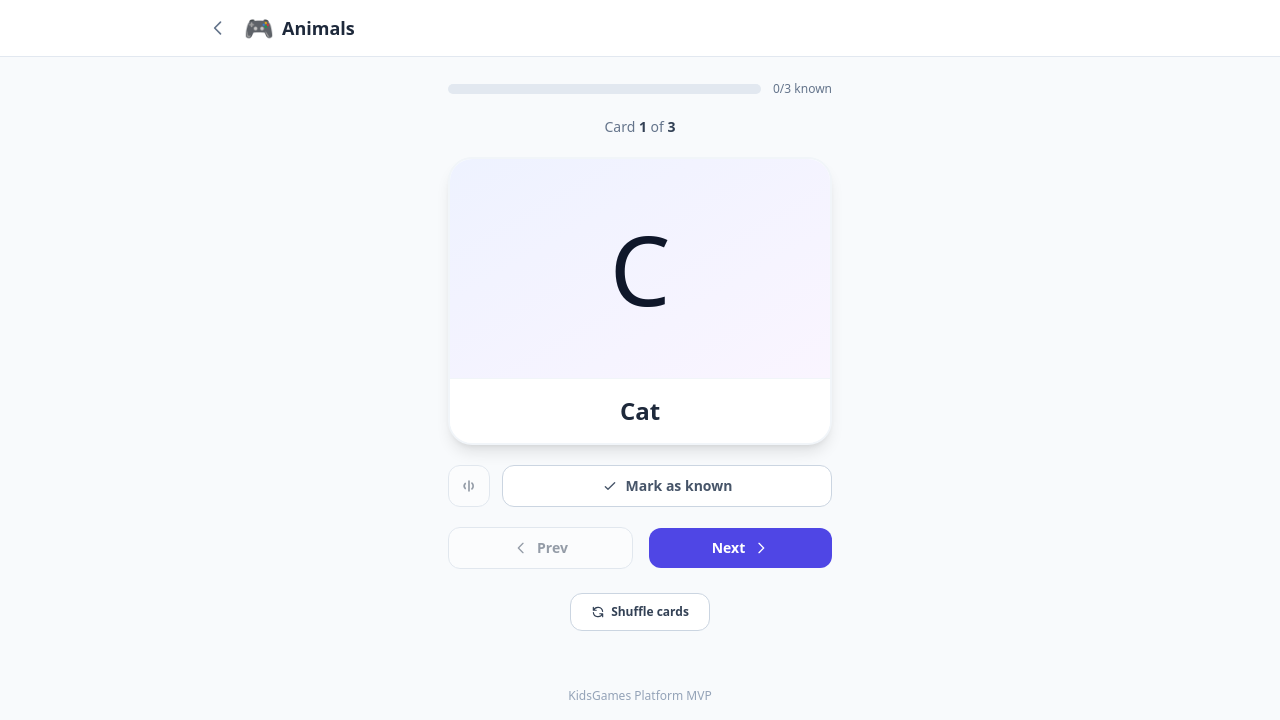
Scenario: FlashcardGamePage › navigates to previous card on Prev click
Expected: the text "Cat" is shown, [620,394,660,427]
Click the button with aria-label "next card": click(740, 548) [649,528,832,568]
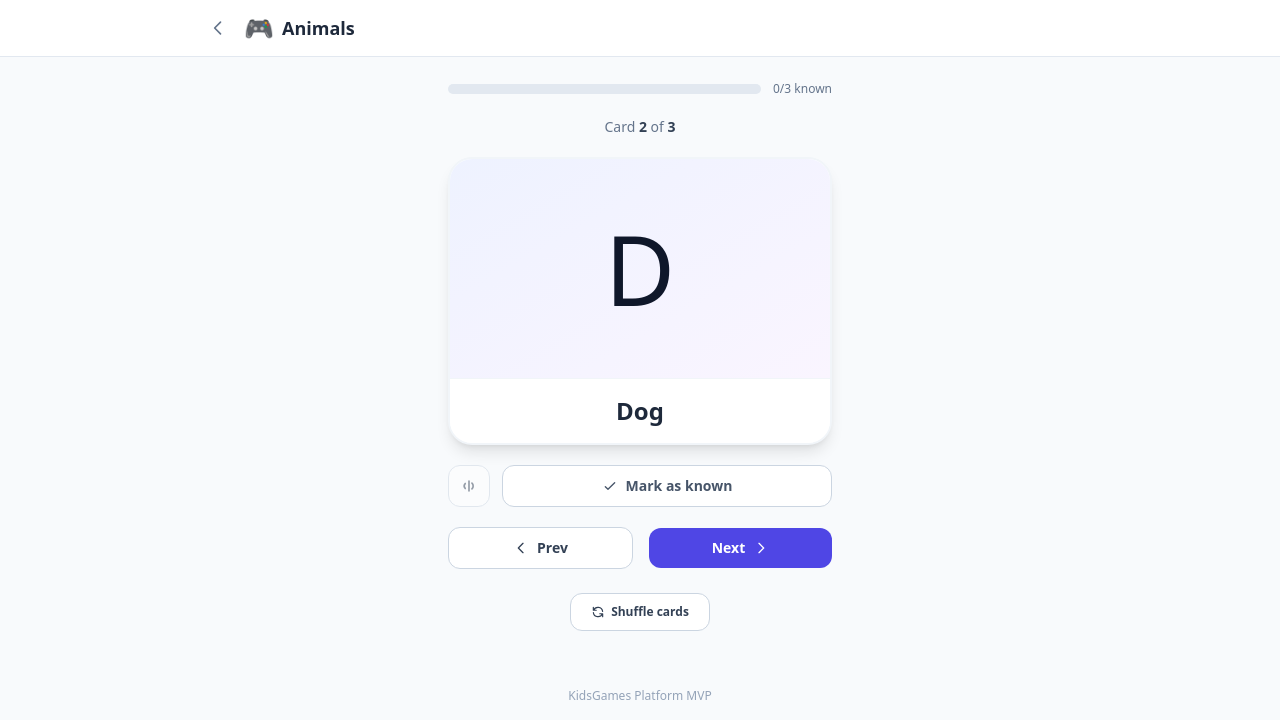
Result: the text "Dog" is shown at [616,394,664,427]
Click the button with aria-label "previous card": click(540, 548) [448,527,633,569]
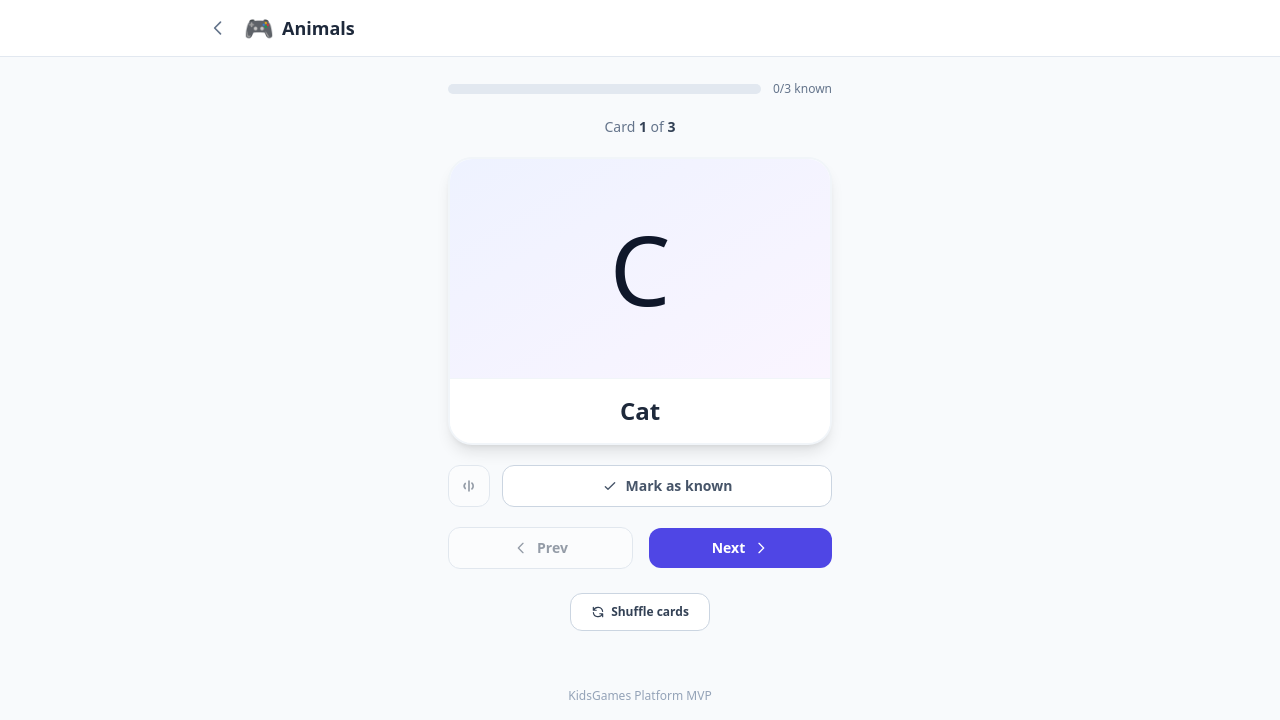
Result: the text "Cat" is shown at [620,394,660,427]
